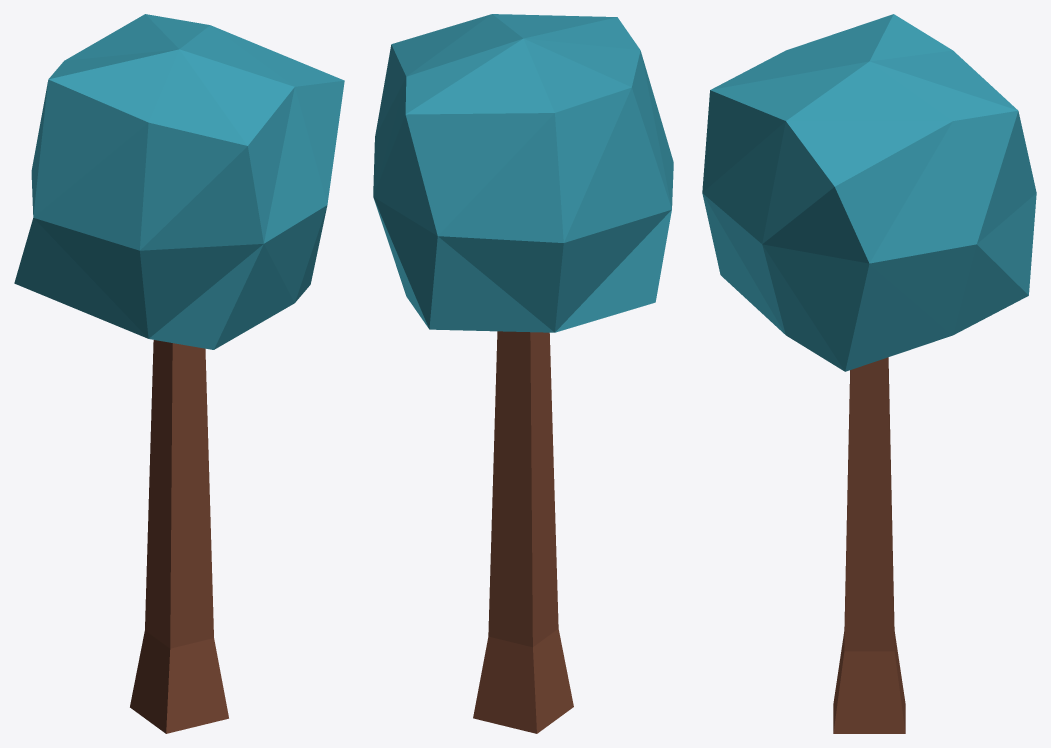
Rendered from Tree_42_summer_blue_vc.fbx.
3 renders of one model, left to right at view 1: azimuth 30°, elevation 25°; view 2: azimuth 150°, elevation 25°; view 3: azimuth 270°, elevation 25°, orthographic. The views are drawn at different scales.
Visible parts, largest first — view 1: Tree_42_summer_blue_vc; view 2: Tree_42_summer_blue_vc; view 3: Tree_42_summer_blue_vc.
Part boxes in pixels (box(x1,y1,x2,y2)): Tree_42_summer_blue_vc: box(14, 14, 344, 733); Tree_42_summer_blue_vc: box(373, 14, 673, 733); Tree_42_summer_blue_vc: box(702, 14, 1036, 733).
Size of the model in its own units: 98.78 by 212 by 97.79.
